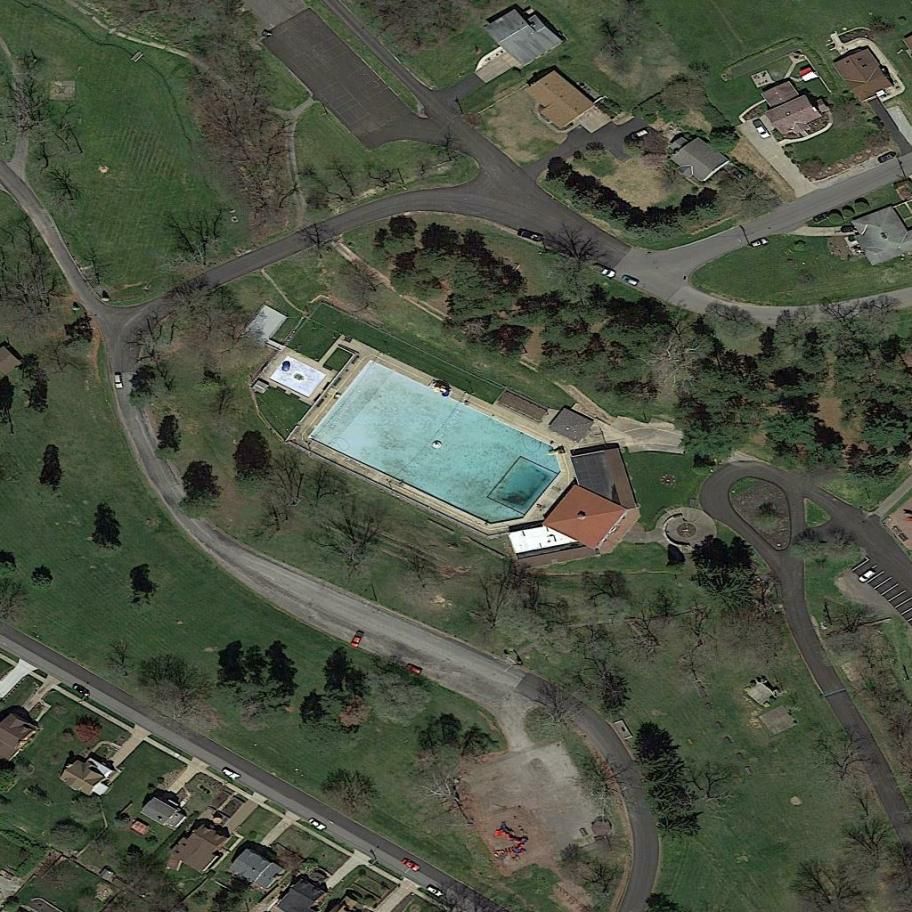small-vehicle: (752, 116, 773, 142), (517, 227, 544, 244), (591, 262, 616, 280), (856, 567, 876, 586), (400, 857, 422, 873), (307, 816, 328, 832), (349, 629, 365, 650), (629, 127, 651, 142), (72, 682, 91, 699), (622, 273, 641, 289), (426, 884, 445, 899), (221, 767, 240, 782), (404, 663, 423, 677), (750, 236, 770, 248), (113, 373, 124, 390)
